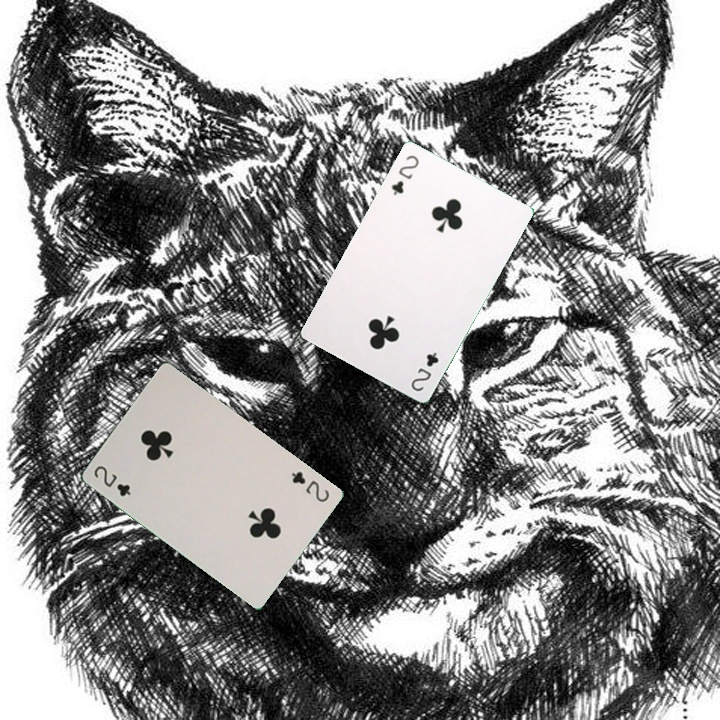2c: (287, 467, 332, 505), (89, 461, 134, 499), (387, 151, 422, 198), (407, 348, 441, 394)
